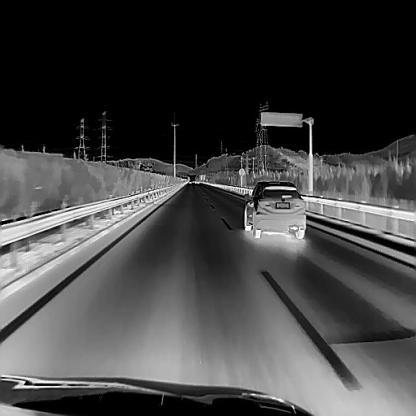car: (243, 180, 306, 238), (194, 175, 199, 183)
